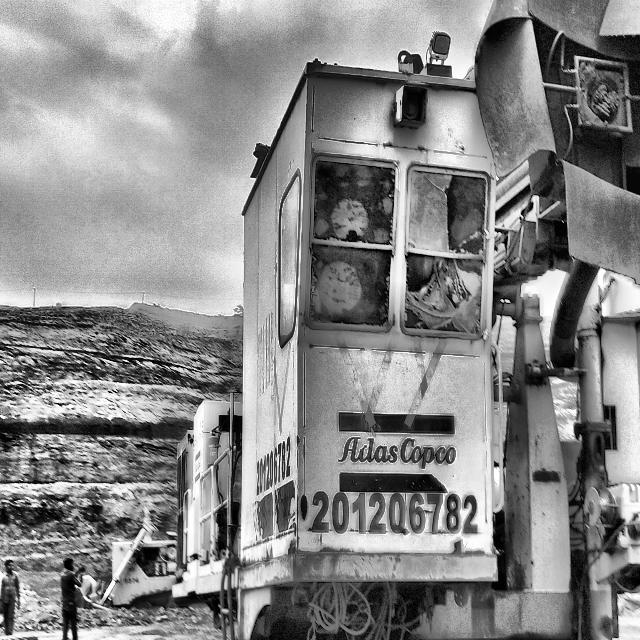buldozerpayloadergrader: (104, 518, 180, 613)
